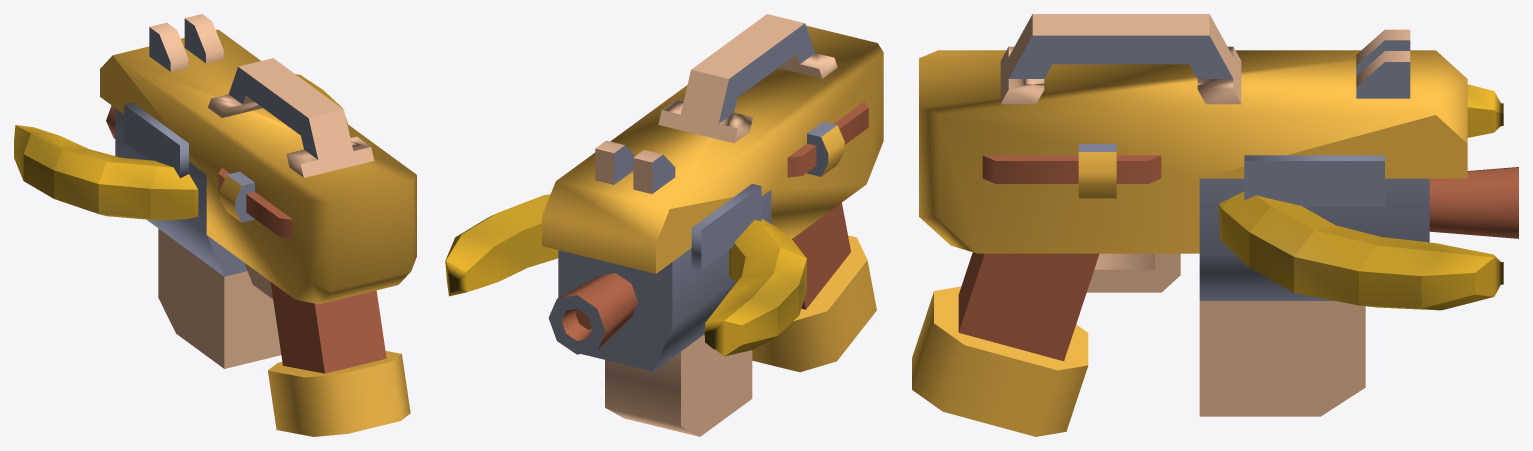
File: bananas_mg.glb
3 views of the same model, side by side, from view 1: azimuth 30°, elevation 25°; view 2: azimuth 150°, elevation 25°; view 3: azimuth 270°, elevation 25° (orthographic). The views are drawn at different scales.
Visible parts, largest first — view 1: blaster-c; view 2: blaster-c; view 3: blaster-c.
Part boxes in pixels (x1,y1,x2,y2): blaster-c: (14, 14, 416, 436); blaster-c: (445, 14, 883, 436); blaster-c: (912, 14, 1518, 436).
Size of the model in its own units: 0.1989 by 0.1978 by 0.2783.
Materials: 3 (1 with a texture image).
